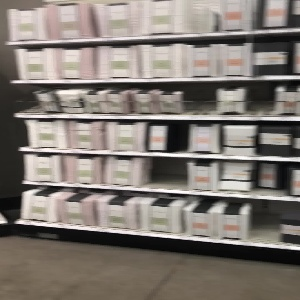void: (142, 157, 187, 189), (246, 200, 279, 242), (246, 80, 277, 116), (184, 84, 217, 113)
